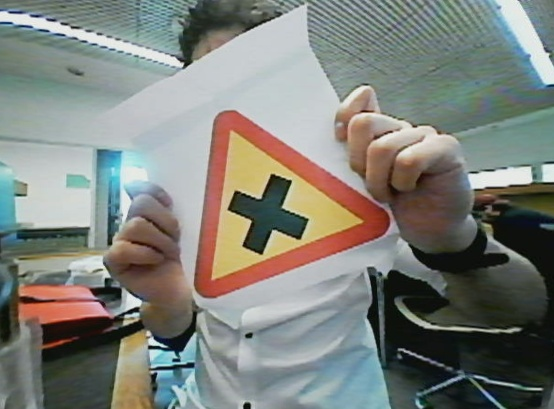junction: (177, 105, 406, 303)
